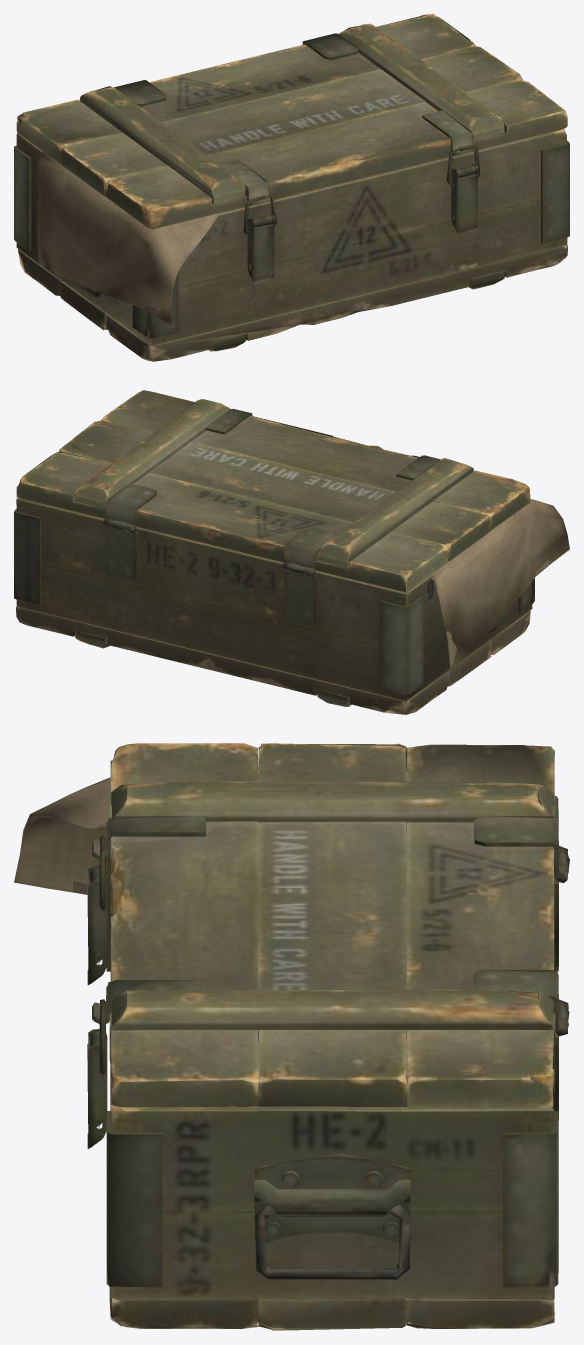
File: crate.glb
3 views of the same model, one above another, from view 1: azimuth 30°, elevation 25°; view 2: azimuth 150°, elevation 25°; view 3: azimuth 270°, elevation 25° (orthographic). The views are drawn at different scales.
Visible parts, largest first — view 1: crate; view 2: crate; view 3: crate.
Part boxes in pixels (x1=…): crate: x1=14, y1=14, x2=569, y2=361; crate: x1=14, y1=390, x2=569, y2=714; crate: x1=14, y1=743, x2=569, y2=1330.
Bounding box in the file's own units: 0.8156 × 0.3004 × 0.5387.
1 material, 1 textured.
